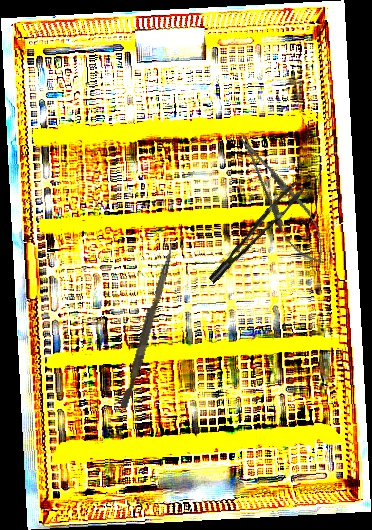Needle Holder: (226, 125, 338, 274)
Pusher: (120, 243, 175, 410)
Tissue Forceps: (196, 180, 314, 284)
